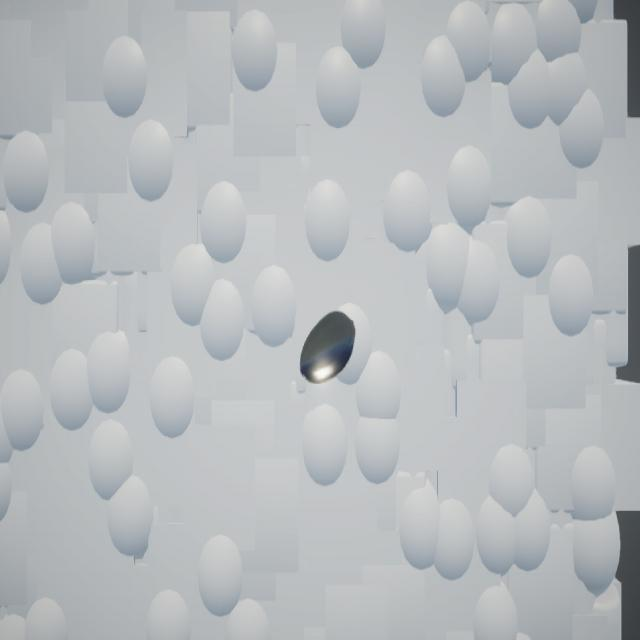top_spoon: (300, 311, 357, 385)
